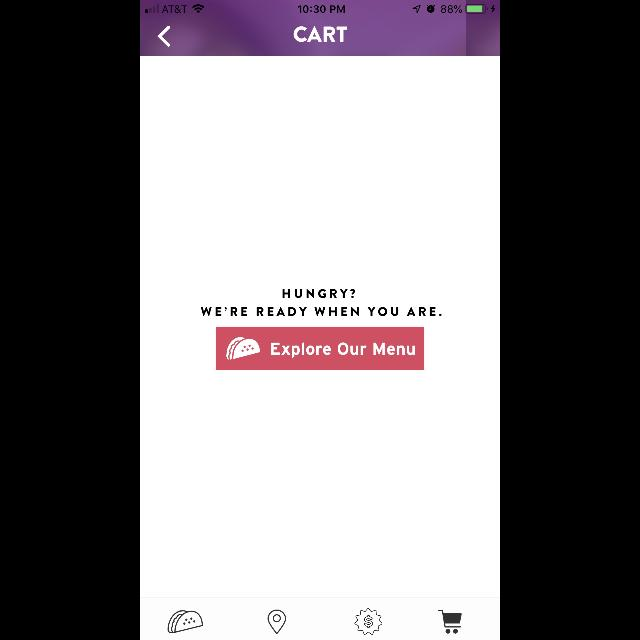icon: (355, 608, 383, 636), (438, 610, 462, 634), (268, 610, 286, 634), (157, 27, 170, 48)
image: (167, 610, 203, 634)
text: (200, 308, 442, 316), (293, 26, 347, 42), (282, 290, 356, 298)
textbutton: (216, 328, 424, 370)
uppertaskbar: (140, 0, 500, 14)
